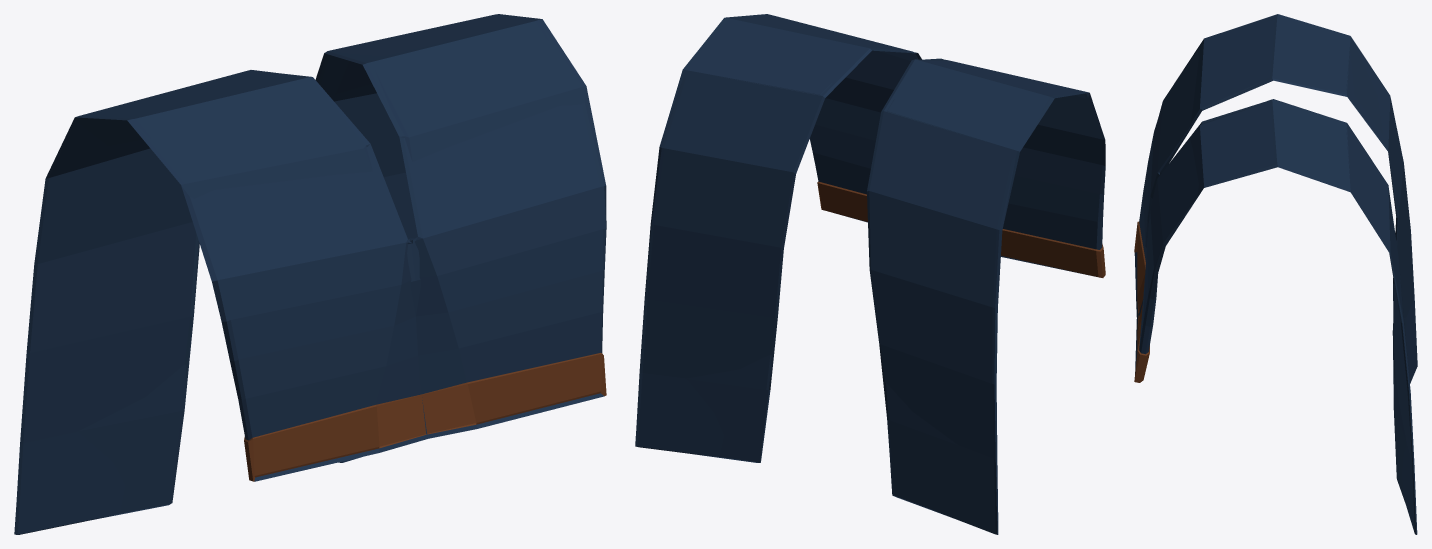
File: pants .fbx
3 renders of one model, left to right at view 1: azimuth 30°, elevation 25°; view 2: azimuth 150°, elevation 25°; view 3: azimuth 270°, elevation 25°, orthographic. The views are drawn at different scales.
Visible parts, largest first — view 1: Cube; view 2: Cube; view 3: Cube.
Part boxes in pixels (left/top/right/bottom): Cube: left=14, top=14, right=606, bottom=534; Cube: left=635, top=14, right=1105, bottom=534; Cube: left=1134, top=14, right=1417, bottom=534.
Size of the model in its own units: 86.52 by 86.81 by 61.53.
